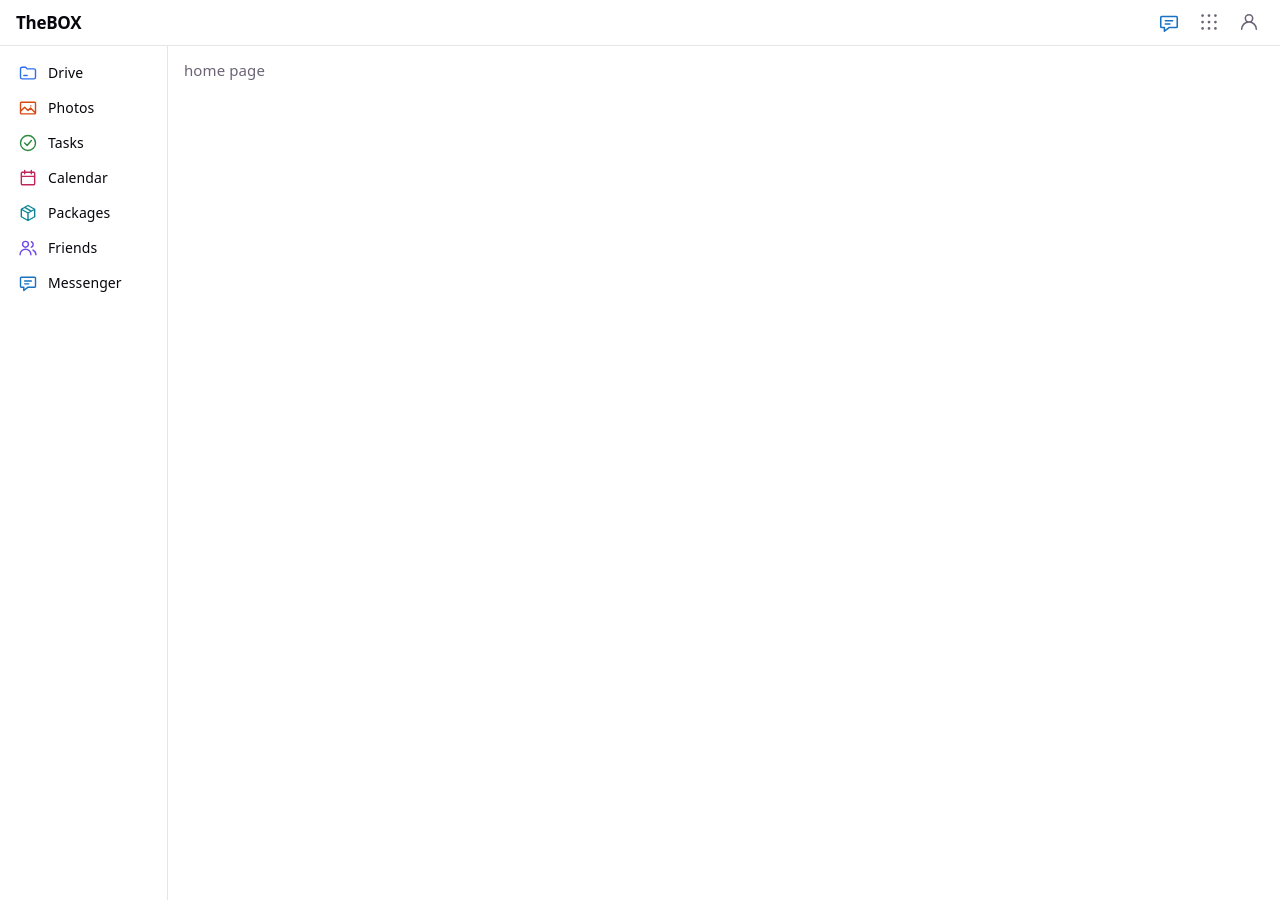
AppLayout › opens the chosen app and closes the menu
This screenshot has width=1280, height=900.
Click the button named "Apps": point(1209, 22) [1194, 7, 1224, 37]
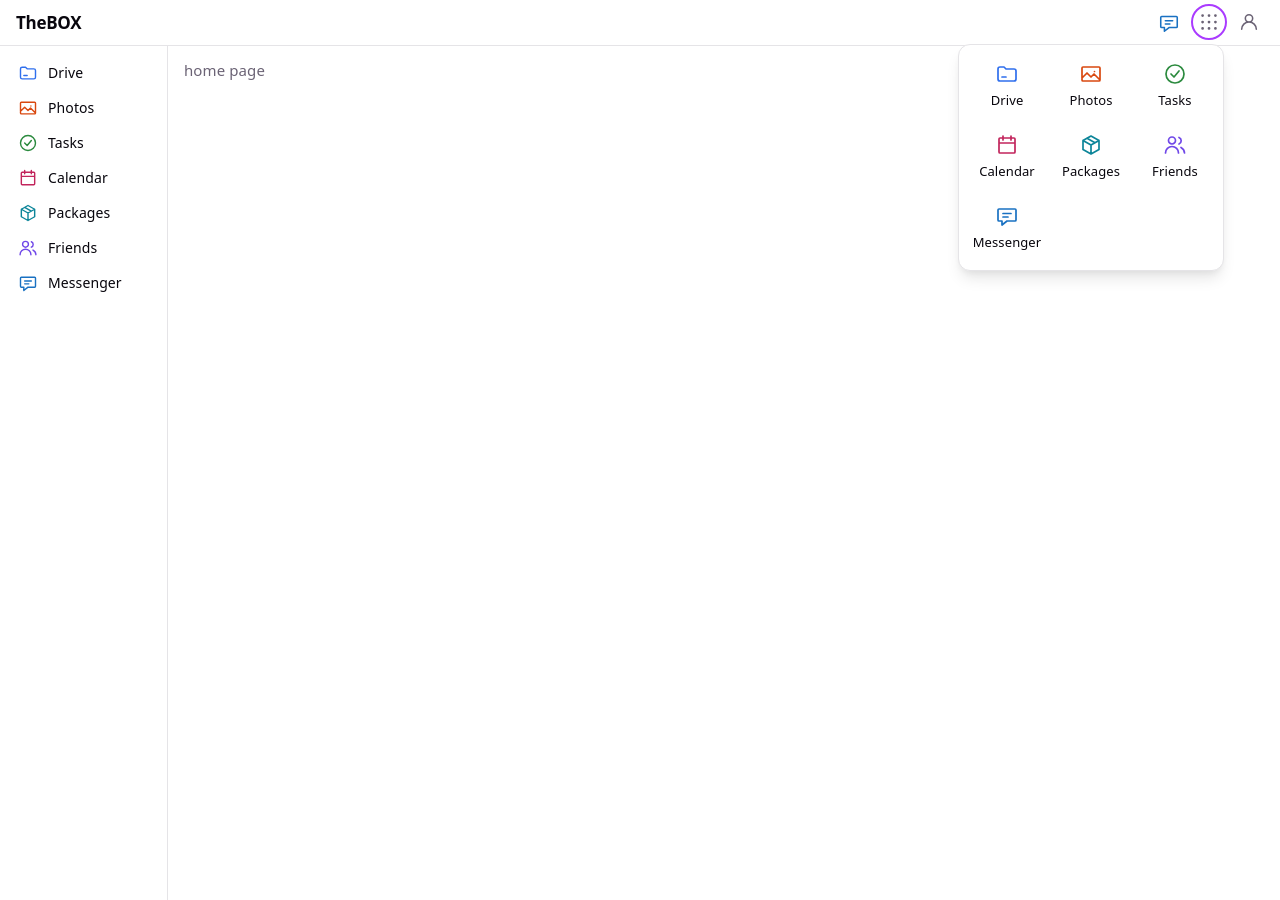
Click the 1st link "Friends": point(1175, 156) [1152, 133, 1198, 180]
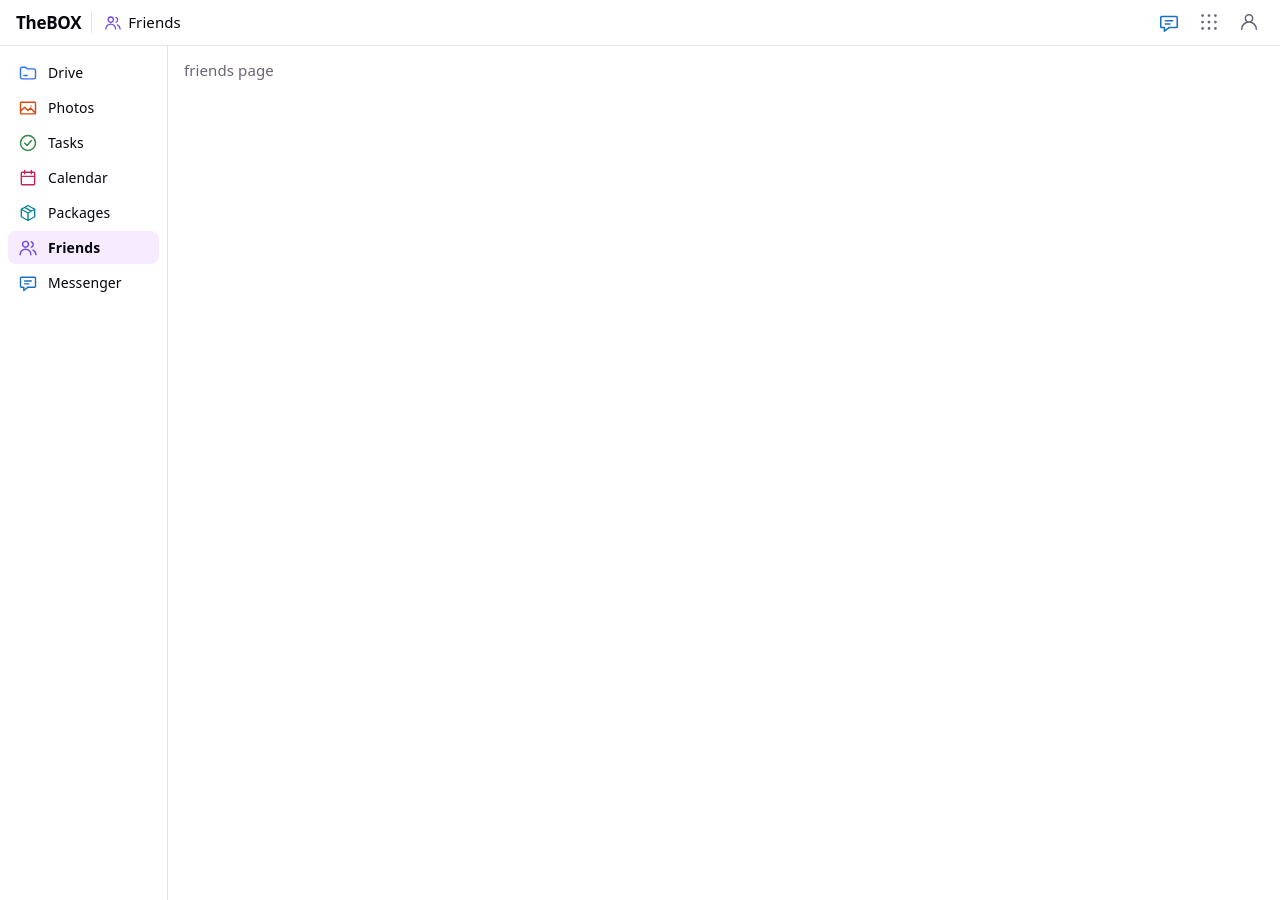
Check: the text "friends page" is shown, box [184, 60, 274, 80]
